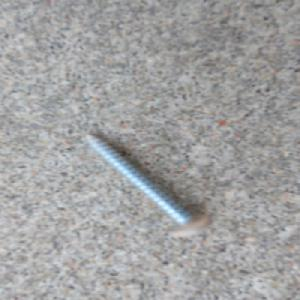Screw: (76, 128, 215, 240)
